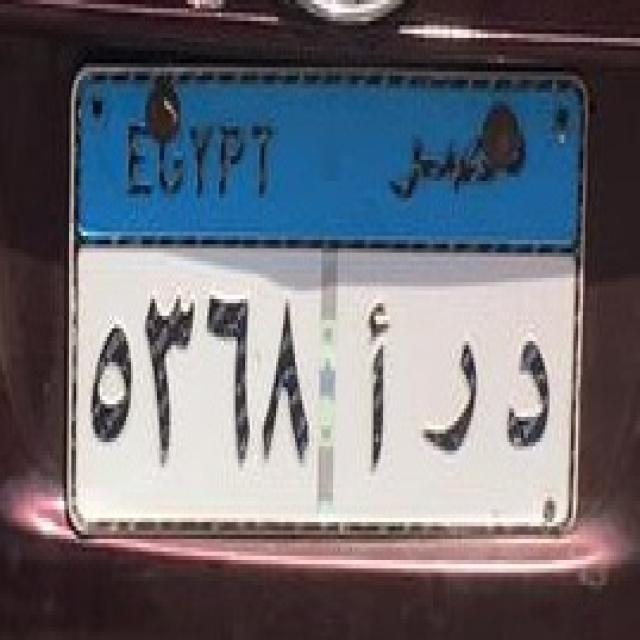3: (137, 289, 204, 468)
5: (84, 320, 142, 448)
6: (198, 287, 262, 470)
8: (260, 291, 326, 485)
R: (422, 332, 482, 473)
alef: (355, 290, 408, 490)
daal: (501, 323, 560, 467)
